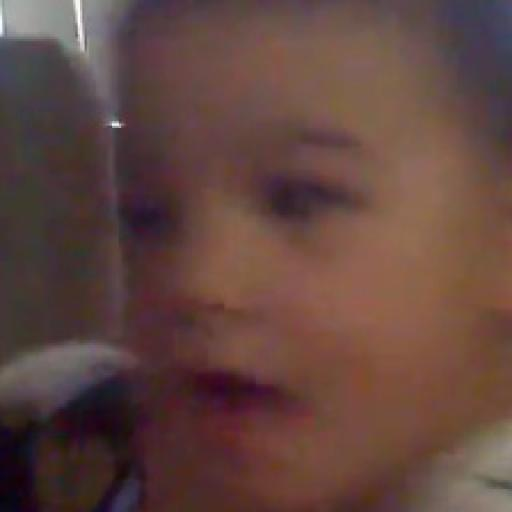Autism: (100, 36, 512, 512)
